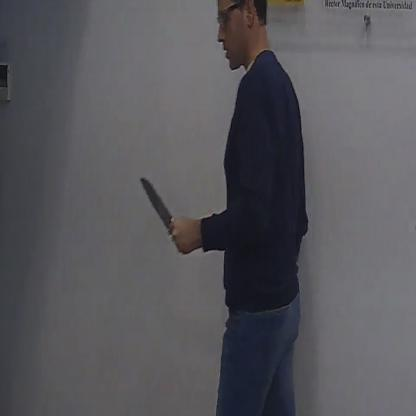knife: (138, 172, 185, 250)
